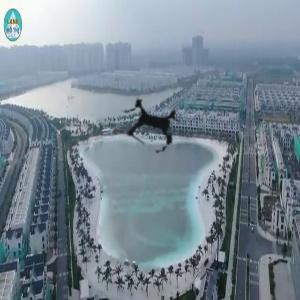drone: (97, 74, 205, 182)
